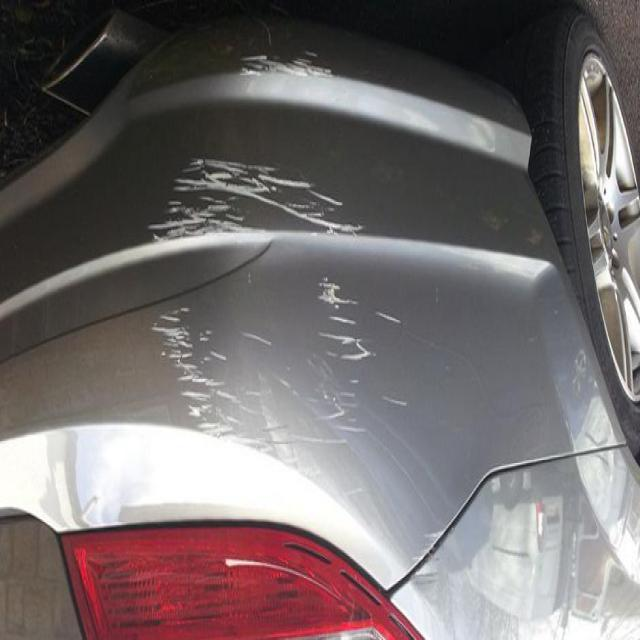scratch: (125, 126, 418, 496)
